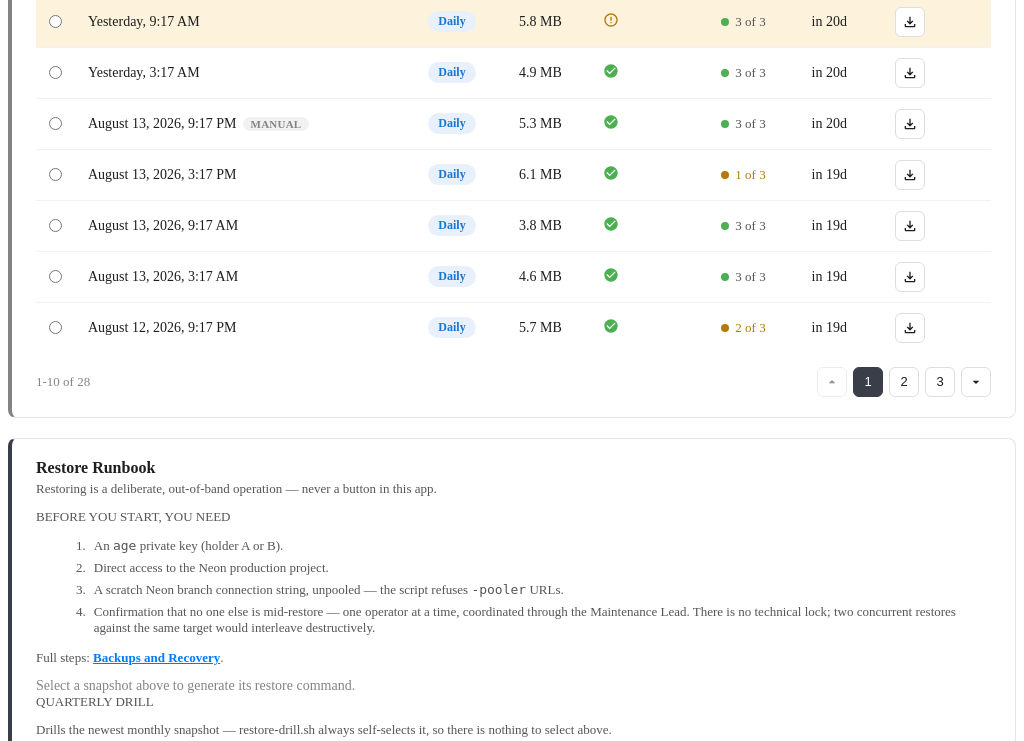
Test: BackupsTab › changing the filter resets pagination back to page 1
(page scrolled)
Click the button named "Page 2": (904,382) [889, 367, 919, 397]
(page scrolled)
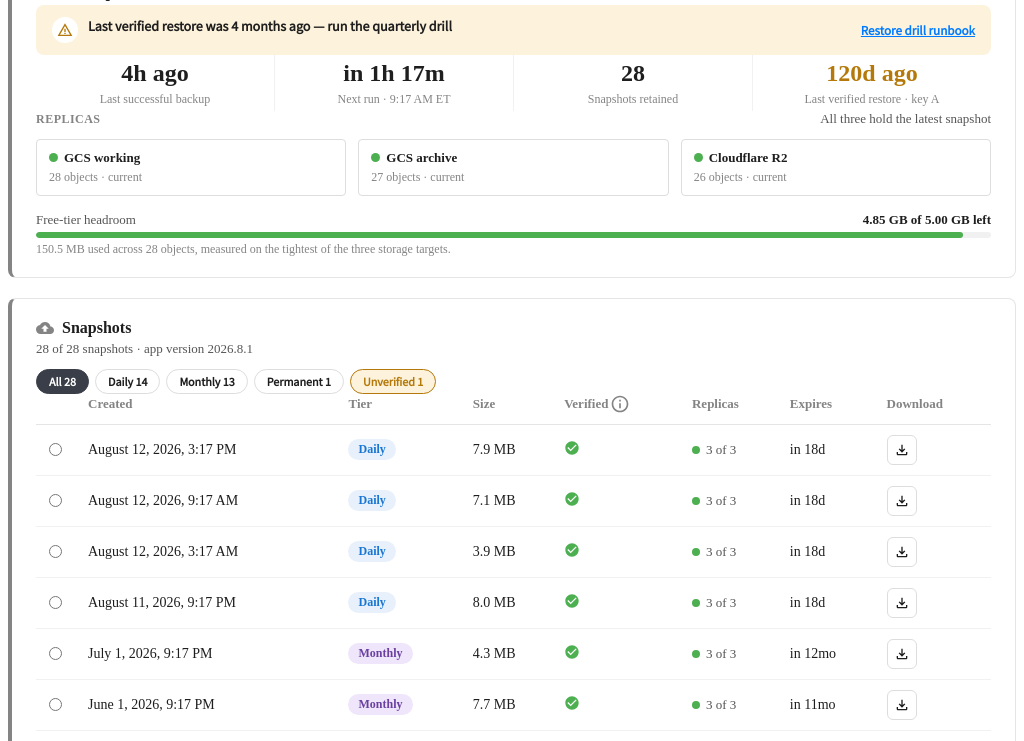
Click the button "Monthly 13": (207,381) [166, 369, 248, 394]
(page scrolled)
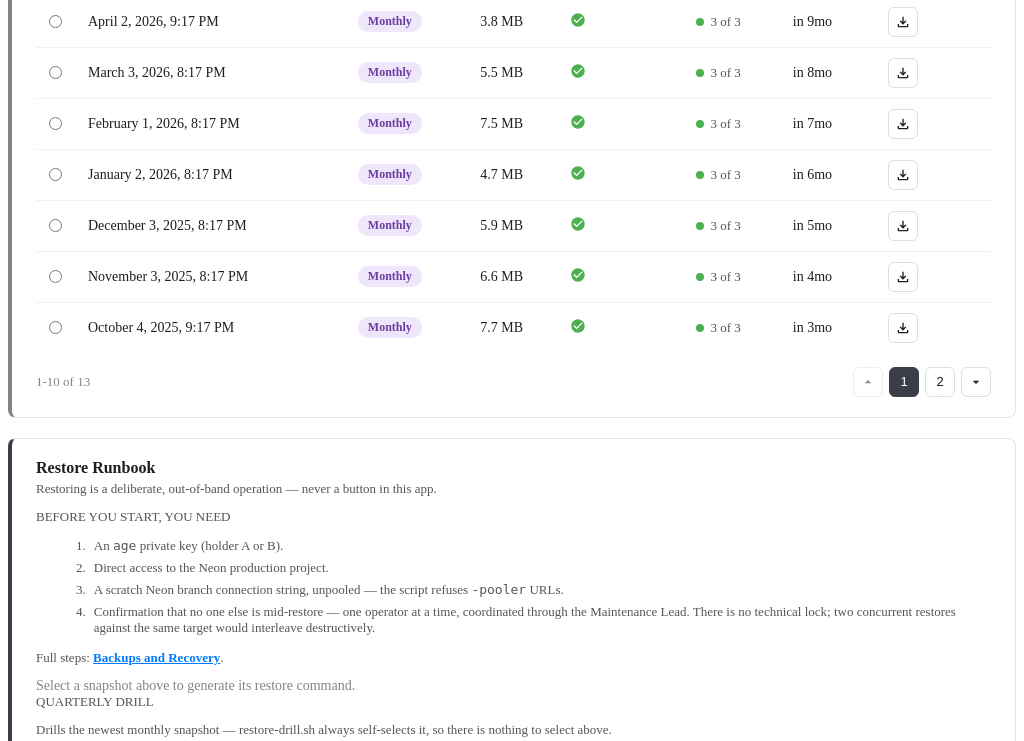
Result: the text "1-10 of 13" is shown at [36, 374, 90, 390]
